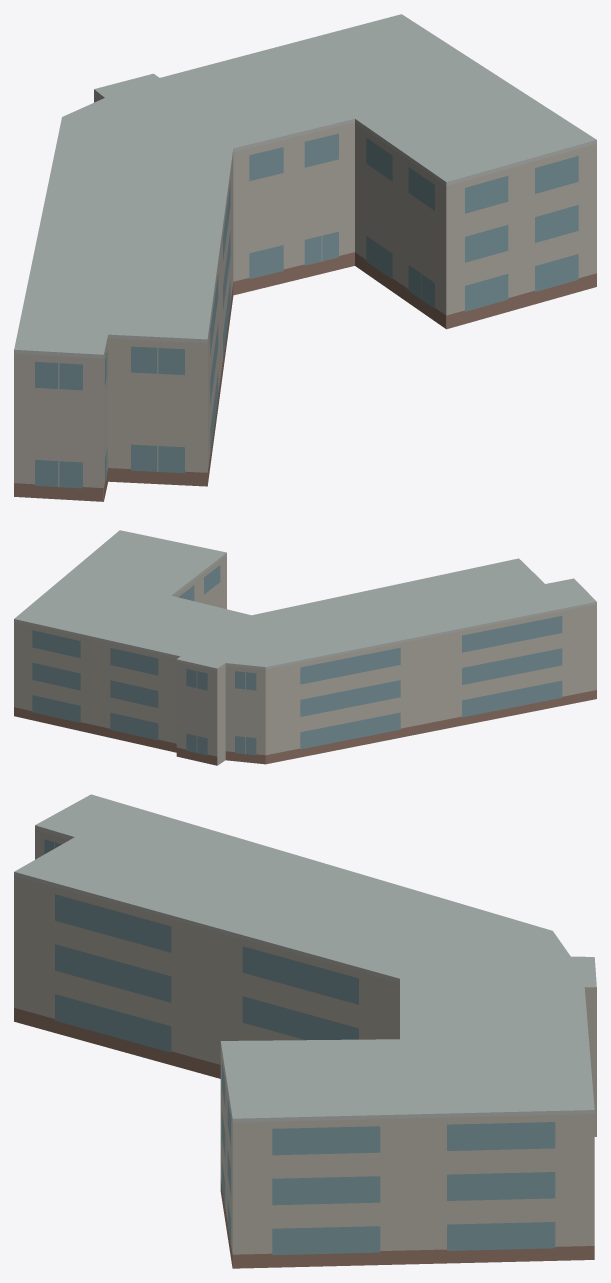
Rendered from survey-upis-32584215.glb.
3 renders of one model, top to bottom at view 1: azimuth 30°, elevation 25°; view 2: azimuth 150°, elevation 25°; view 3: azimuth 270°, elevation 25°, orthographic. The views are drawn at different scales.
Visible parts, largest first — view 1: survey-upis-32584215.tmp; view 2: survey-upis-32584215.tmp; view 3: survey-upis-32584215.tmp.
Boxes of the visible parts, x1=… form: survey-upis-32584215.tmp: x1=14, y1=14, x2=596, y2=501; survey-upis-32584215.tmp: x1=14, y1=530, x2=596, y2=765; survey-upis-32584215.tmp: x1=14, y1=794, x2=596, y2=1268.
Size of the model in its own units: 42.48 by 9.15 by 32.25.
